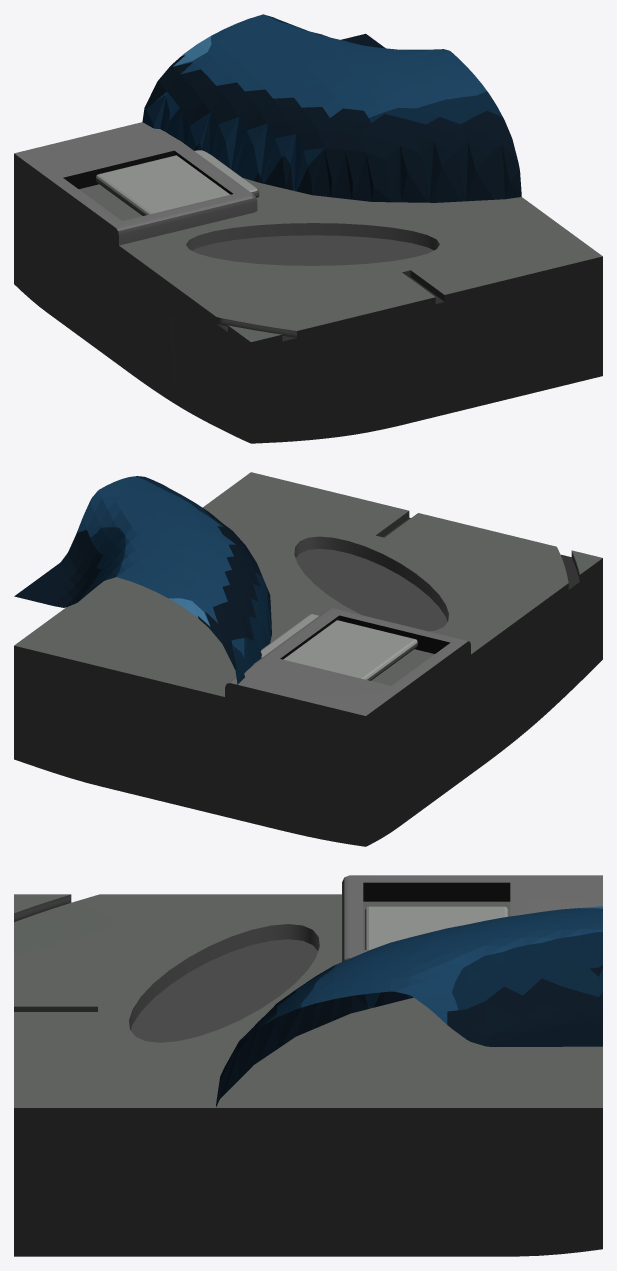
Rendered from camanis_boss_195.glb.
3 views of the same model, one above another, from view 1: azimuth 30°, elevation 25°; view 2: azimuth 150°, elevation 25°; view 3: azimuth 270°, elevation 25° (orthographic). The views are drawn at different scales.
Parts seen in each view (by area): view 1: camanis_boss_195; view 2: camanis_boss_195; view 3: camanis_boss_195.
Boxes of the visible parts, box(x1,y1,x2,y2) form: camanis_boss_195: box(14, 14, 602, 443); camanis_boss_195: box(14, 472, 602, 846); camanis_boss_195: box(14, 875, 602, 1256).
Size of the model in its own units: 24 by 13.91 by 28.
